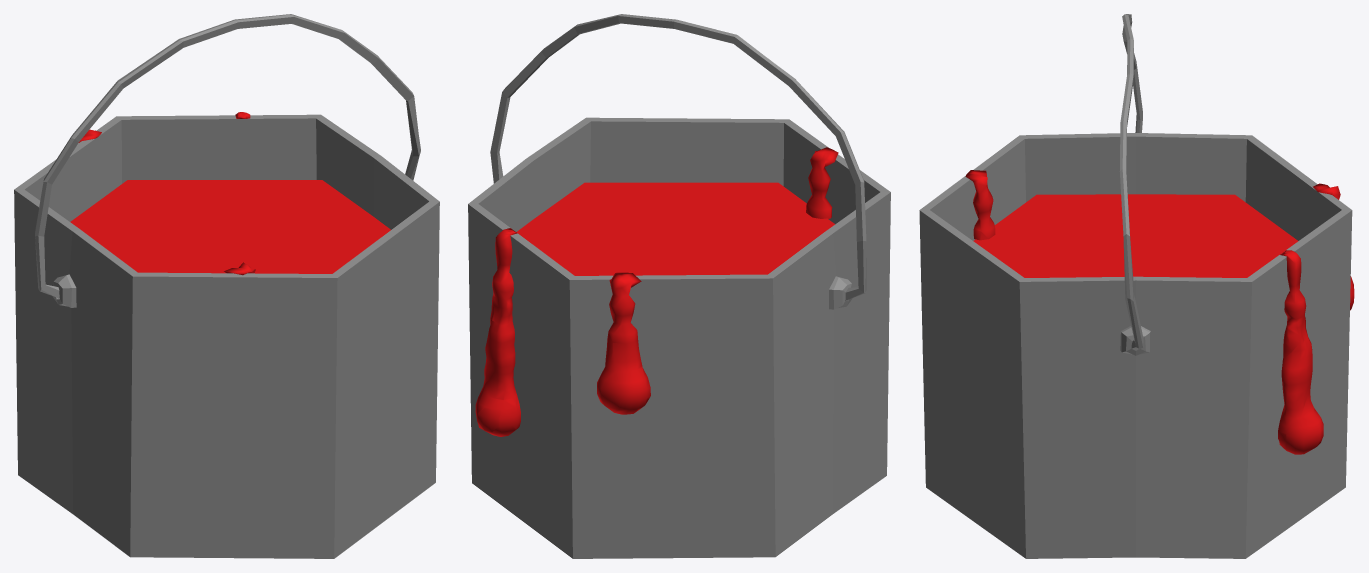
The model's file is ведро.fbx.
3 renders of one model, left to right at view 1: azimuth 30°, elevation 25°; view 2: azimuth 150°, elevation 25°; view 3: azimuth 270°, elevation 25°, orthographic. The views are drawn at different scales.
Visible parts, largest first — view 1: Cylinder, краска в банке, ручка; view 2: Cylinder, краска в банке, ручка, краска4, краска1, краски; view 3: Cylinder, краска в банке, краска4, ручка, краски.
Part boxes in pixels (<box>): Cylinder: <box>14,114,439,558</box>; краска в банке: <box>70,180,390,273</box>; ручка: <box>35,14,420,298</box>; Cylinder: <box>468,117,890,558</box>; краска в банке: <box>516,182,834,275</box>; ручка: <box>490,14,866,300</box>; краска4: <box>475,228,520,436</box>; краска1: <box>597,272,650,414</box>; краски: <box>806,147,838,218</box>; Cylinder: <box>919,133,1352,558</box>; краска в банке: <box>973,194,1298,277</box>; краска4: <box>1278,250,1323,454</box>; ручка: <box>1119,14,1143,350</box>; краски: <box>965,170,995,240</box>.
Bounding box in the file's own units: 211 × 244 × 213.
